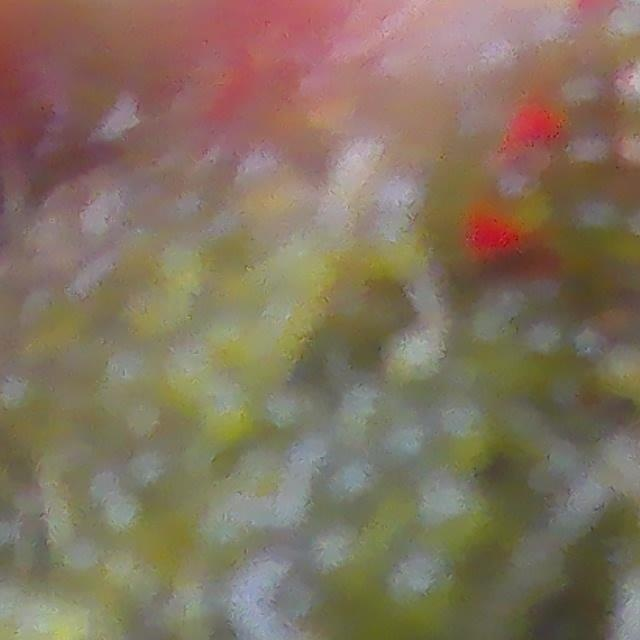SeaGrape: (416, 474, 500, 555), (383, 547, 461, 633)
